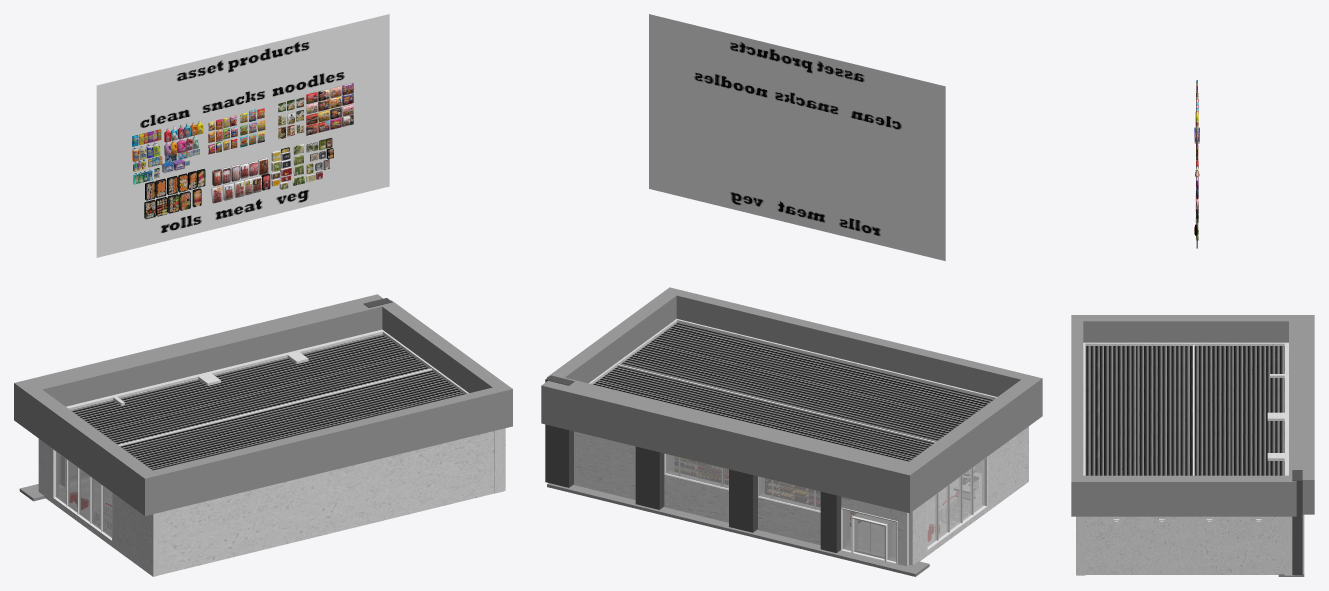
3 renders of one model, left to right at view 1: azimuth 30°, elevation 25°; view 2: azimuth 150°, elevation 25°; view 3: azimuth 270°, elevation 25°, orthographic. The views are drawn at different scales.
Visible parts, largest first — view 1: object 3453, Cube.3659_3481, Plane_3487, Cube.2058_1930, Cube.3624_3491, Cube.022_3465, Cube.2057_1929, Cube.053_3490, Cube_0, Cube.024_3466, Plane.001_1; view 2: object 3453, Cube.3659_3481, Plane_3487, Cube.2057_1929, Cube.3663_3485, Cube.3624_3491, Cube.3660_3482, Cube.022_3465, Cube.3658_3480, Cube.3656_3478, Cube.055_3477, Plane.001_1 (+6 smaller); view 3: Plane_3487, Cube.3659_3481, Cube.053_3490, Cube.2057_1929, Cube.3658_3480, Cube.2058_1930, Cube.3624_3491.
Boxes of the visible parts, x1=… form: object 3453: x1=96, y1=14, x2=389, y2=257; Cube.3659_3481: x1=14, y1=294, x2=512, y2=515; Plane_3487: x1=71, y1=334, x2=464, y2=470; Cube.2058_1930: x1=158, y1=428, x2=505, y2=575; Cube.3624_3491: x1=38, y1=439, x2=158, y2=576; Cube.022_3465: x1=56, y1=452, x2=111, y2=537; Cube.2057_1929: x1=66, y1=329, x2=383, y2=410; Cube.053_3490: x1=382, y1=330, x2=504, y2=493; Cube_0: x1=118, y1=368, x2=432, y2=446; Cube.024_3466: x1=52, y1=448, x2=112, y2=541; Plane.001_1: x1=58, y1=481, x2=111, y2=534; object 3453: x1=649, y1=14, x2=945, y2=260; Cube.3659_3481: x1=541, y1=287, x2=1042, y2=513; Plane_3487: x1=593, y1=322, x2=993, y2=461; Cube.2057_1929: x1=573, y1=431, x2=908, y2=566; Cube.3663_3485: x1=666, y1=454, x2=896, y2=561; Cube.3624_3491: x1=909, y1=426, x2=1028, y2=565; Cube.3660_3482: x1=547, y1=483, x2=929, y2=576; Cube.022_3465: x1=927, y1=459, x2=984, y2=546; Cube.3658_3480: x1=545, y1=375, x2=574, y2=487; Cube.3656_3478: x1=635, y1=446, x2=664, y2=509; Cube.055_3477: x1=729, y1=469, x2=758, y2=532; Plane.001_1: x1=847, y1=472, x2=981, y2=557; Plane_3487: x1=1085, y1=346, x2=1284, y2=475; Cube.3659_3481: x1=1071, y1=315, x2=1314, y2=516; Cube.053_3490: x1=1076, y1=516, x2=1284, y2=574; Cube.2057_1929: x1=1267, y1=342, x2=1293, y2=575; Cube.3658_3480: x1=1292, y1=470, x2=1302, y2=574; Cube.2058_1930: x1=1076, y1=342, x2=1085, y2=575; Cube.3624_3491: x1=1085, y1=342, x2=1284, y2=345.
Size of the model in its own units: 29.47 by 33.57 by 18.14.
31 materials, 18 textured.
